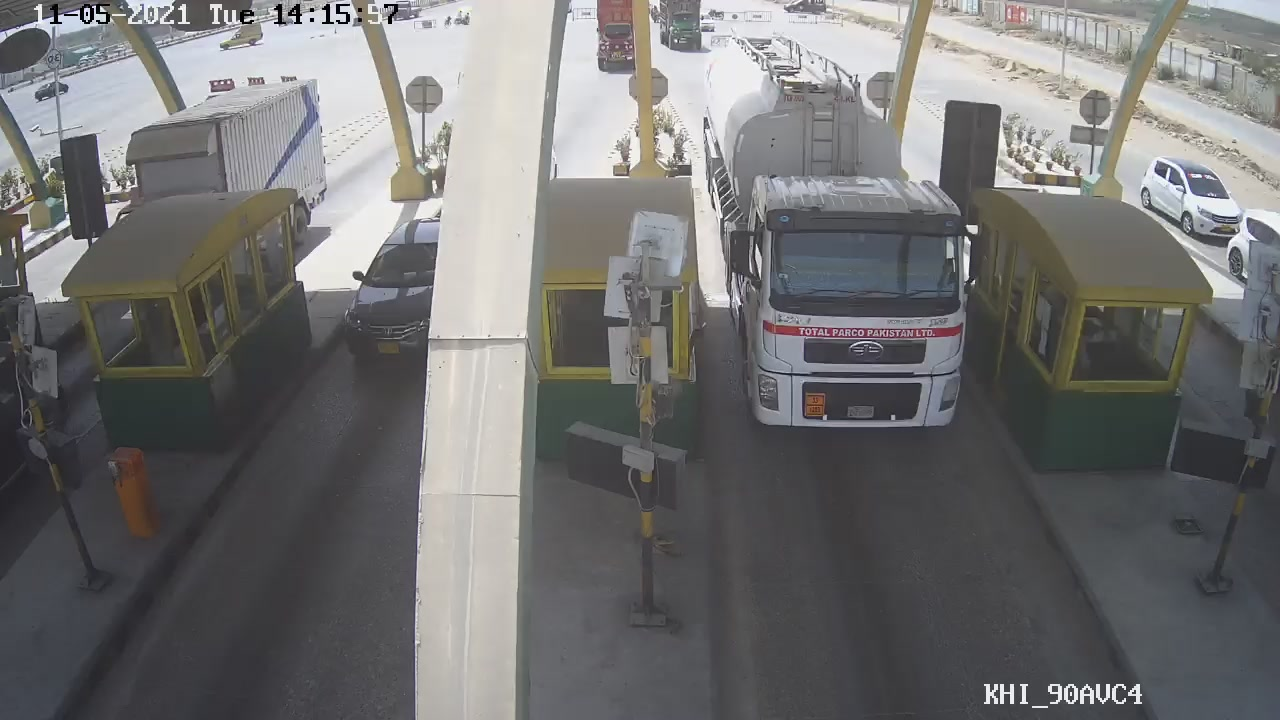F6: (701, 64, 980, 435)
